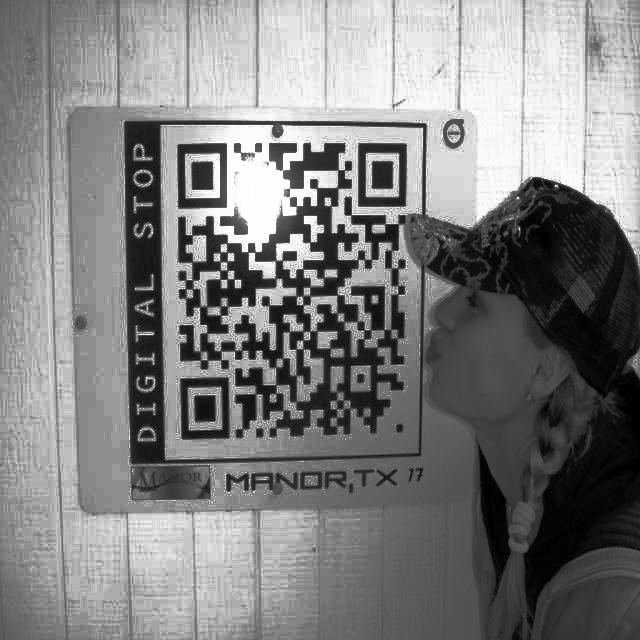qr_code: (178, 144, 406, 439)
